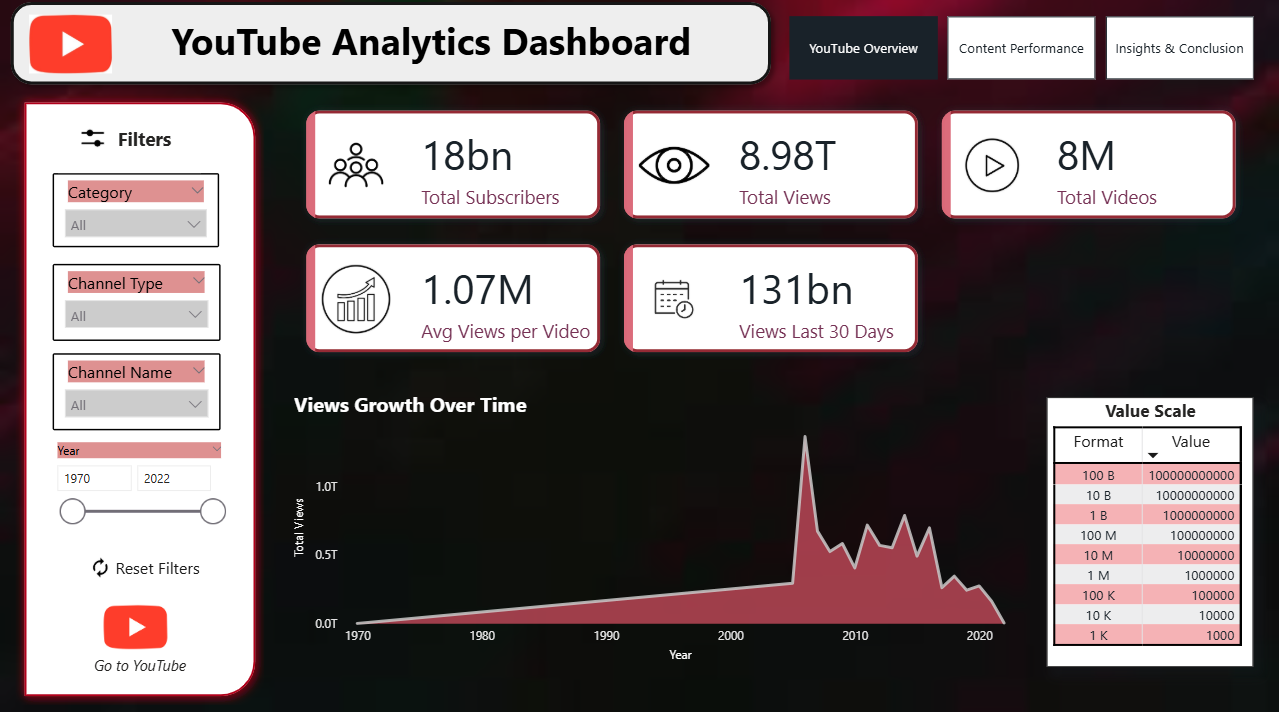

The dashboard page shown, as its layout file describes it:
{"tool":"powerbi","page":{"name":"YouTube Overview","canvas":[1280,720],"ordinal":0},"visuals":[{"type":"shape","box":[16.5,100.4,248.9,612],"z":0},{"type":"textbox","box":[59.1,128.3,141.7,53.3],"z":0,"group":"g2"},{"type":"actionButton","box":[108.2,553.6,100,40],"z":0,"group":"g1"},{"type":"shape","box":[2.8,0,778.4,100.4],"z":1000},{"type":"image","box":[70.6,125.2,46.8,40.1],"z":1000,"group":"g2"},{"type":"image","box":[77,558.6,48.8,30],"z":1000,"group":"g1"},{"type":"cardVisual","fields":{"Data":["Sum(Global YouTube Statistics.Subscribers)","Sum(Global YouTube Statistics.Total Views)","Sum(Global YouTube Statistics.Total Videos)","Global YouTube Statistics.Avg Views per Video","Sum(Global YouTube Statistics.Views Last 30 Days)"]},"box":[290.2,100.4,965.4,276.4],"z":2000},{"type":"tableEx","title":"Value Scale","fields":{"Values":["Value Scale.Format","Value Scale.Value"]},"box":[1048,404.3,206.3,269.6],"z":3000},{"type":"textbox","box":[121,15.1,614.7,90.8],"z":4000},{"type":"lineChart","title":"Views Growth Over Time","fields":{"Y":["Sum(Global YouTube Statistics.Total Views)"],"Category":["Global YouTube Statistics.Created Date.Variation.Date Hierarchy.Year"]},"box":[290.2,397.5,733,276.4],"z":5000},{"type":"actionButton","box":[104.8,612.6,63.9,44.2],"z":6000},{"type":"pageNavigator","box":[790.8,23.4,464.8,63.3],"z":7000},{"type":"group","id":"g1","title":"Group 3","box":[77,553.6,131,40.9],"z":8000},{"type":"slicer","fields":{"Values":["Global YouTube Statistics.Category"]},"box":[53.6,180.2,166.4,74.3],"z":9000},{"type":"slicer","fields":{"Values":["Global YouTube Statistics.Channel Type"]},"box":[53.6,270.9,167.8,77],"z":10000},{"type":"image","box":[6.9,16.5,129.3,68.8],"z":11000},{"type":"slicer","fields":{"Values":["Global YouTube Statistics.Channel Name"]},"box":[53.6,360.3,167.8,77],"z":12000},{"type":"textbox","box":[82.5,657.4,116.9,39.9],"z":13000},{"type":"group","id":"g2","title":"Group 2","box":[59.1,125.2,141.7,55],"z":14000},{"type":"slicer","fields":{"Values":["Global YouTube Statistics.Year"]},"box":[45.9,443.9,190,95],"z":15000}]}

Visuals, with their boxes in screenshot pixels (x1, y1, x2, y2), scaled from the page's 1280x720 canvas onto the 1279x712 screenshot:
shape: pyautogui.locateOnScreen(16, 99, 265, 704)
textbox: pyautogui.locateOnScreen(59, 127, 201, 180)
actionButton: pyautogui.locateOnScreen(108, 547, 208, 587)
shape: pyautogui.locateOnScreen(3, 0, 781, 99)
image: pyautogui.locateOnScreen(71, 124, 117, 163)
image: pyautogui.locateOnScreen(77, 552, 126, 582)
cardVisual - Sum(Global YouTube Statistics.Subscribers) x Sum(Global YouTube Statistics.Total Views): pyautogui.locateOnScreen(290, 99, 1255, 373)
"Value Scale" tableEx: pyautogui.locateOnScreen(1047, 400, 1253, 666)
textbox: pyautogui.locateOnScreen(121, 15, 735, 105)
"Views Growth Over Time" lineChart: pyautogui.locateOnScreen(290, 393, 1022, 666)
actionButton: pyautogui.locateOnScreen(105, 606, 169, 650)
pageNavigator: pyautogui.locateOnScreen(790, 23, 1255, 86)
"Group 3" group: pyautogui.locateOnScreen(77, 547, 208, 588)
slicer - Global YouTube Statistics.Category: pyautogui.locateOnScreen(54, 178, 220, 252)
slicer - Global YouTube Statistics.Channel Type: pyautogui.locateOnScreen(54, 268, 221, 344)
image: pyautogui.locateOnScreen(7, 16, 136, 84)
slicer - Global YouTube Statistics.Channel Name: pyautogui.locateOnScreen(54, 356, 221, 432)
textbox: pyautogui.locateOnScreen(82, 650, 199, 690)
"Group 2" group: pyautogui.locateOnScreen(59, 124, 201, 178)
slicer - Global YouTube Statistics.Year: pyautogui.locateOnScreen(46, 439, 236, 533)
